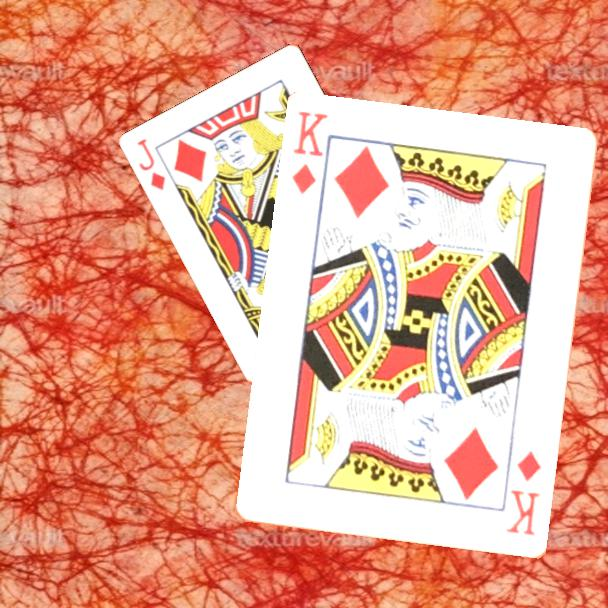d11: (134, 135, 169, 194)
d13: (503, 448, 545, 539), (289, 108, 331, 198)
